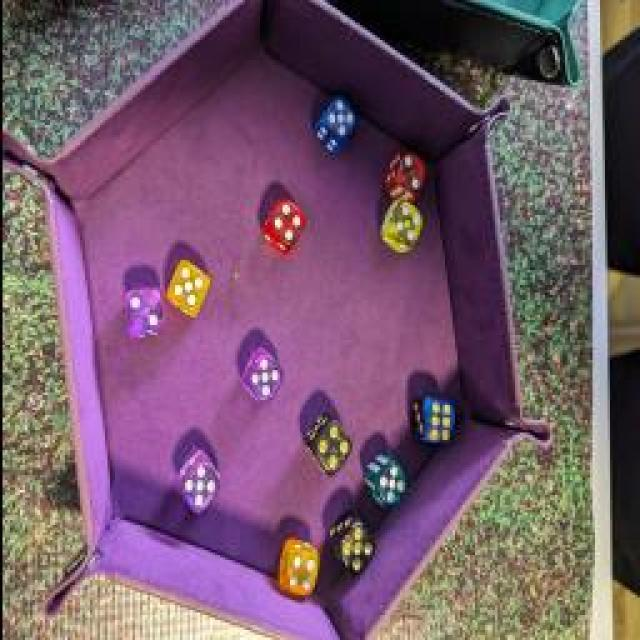dice_2: (120, 284, 168, 344), (382, 149, 428, 199)
dice_4: (258, 194, 308, 254), (378, 200, 428, 255), (278, 532, 318, 600), (306, 416, 352, 472)
dice_5: (327, 512, 375, 578), (175, 448, 223, 512), (162, 254, 210, 318), (238, 344, 288, 404), (313, 91, 355, 151), (365, 449, 405, 511)
dice_6: (415, 390, 455, 450)
